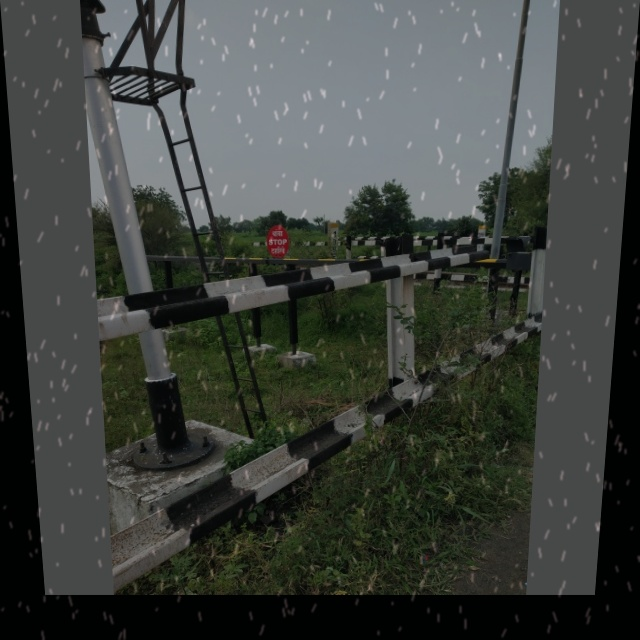Stop: (266, 225, 289, 258)
